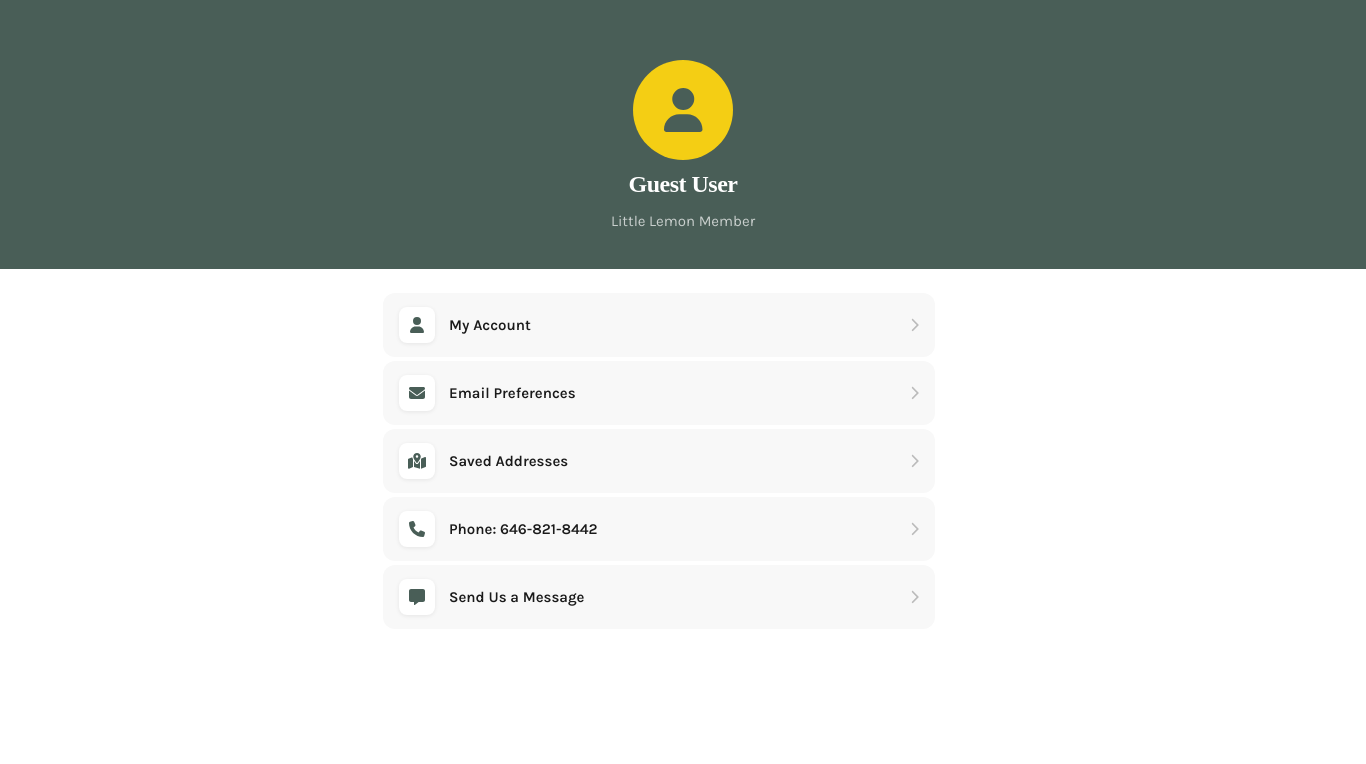
Test: ProfilePage — contact form › clicking Send Us a Message reveals the contact form
Click the button "Send Us a Message": x=417, y=597 [383,565,935,629]
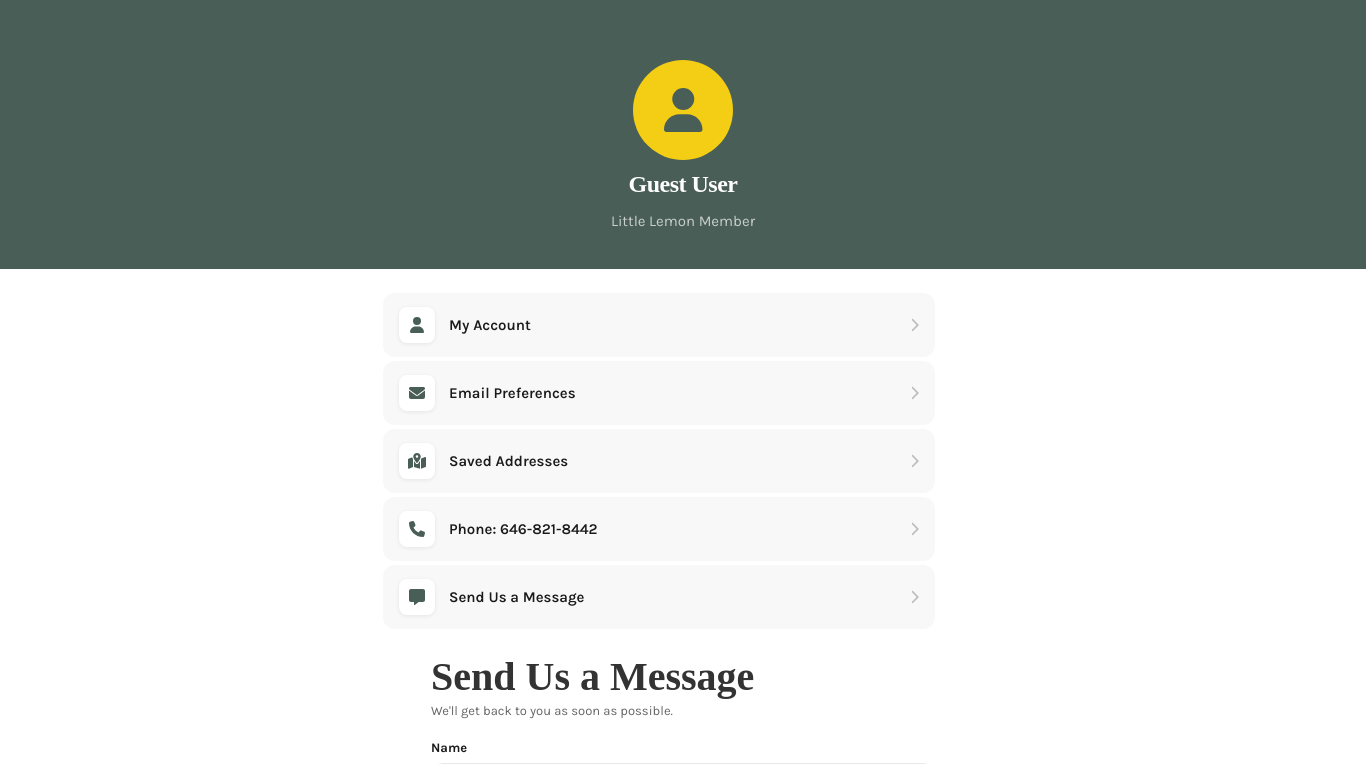
Now the heading "Send Us a Message" is shown, box [431,654,754,699]
